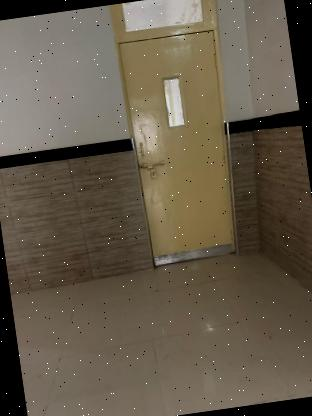door: (109, 0, 259, 275)
